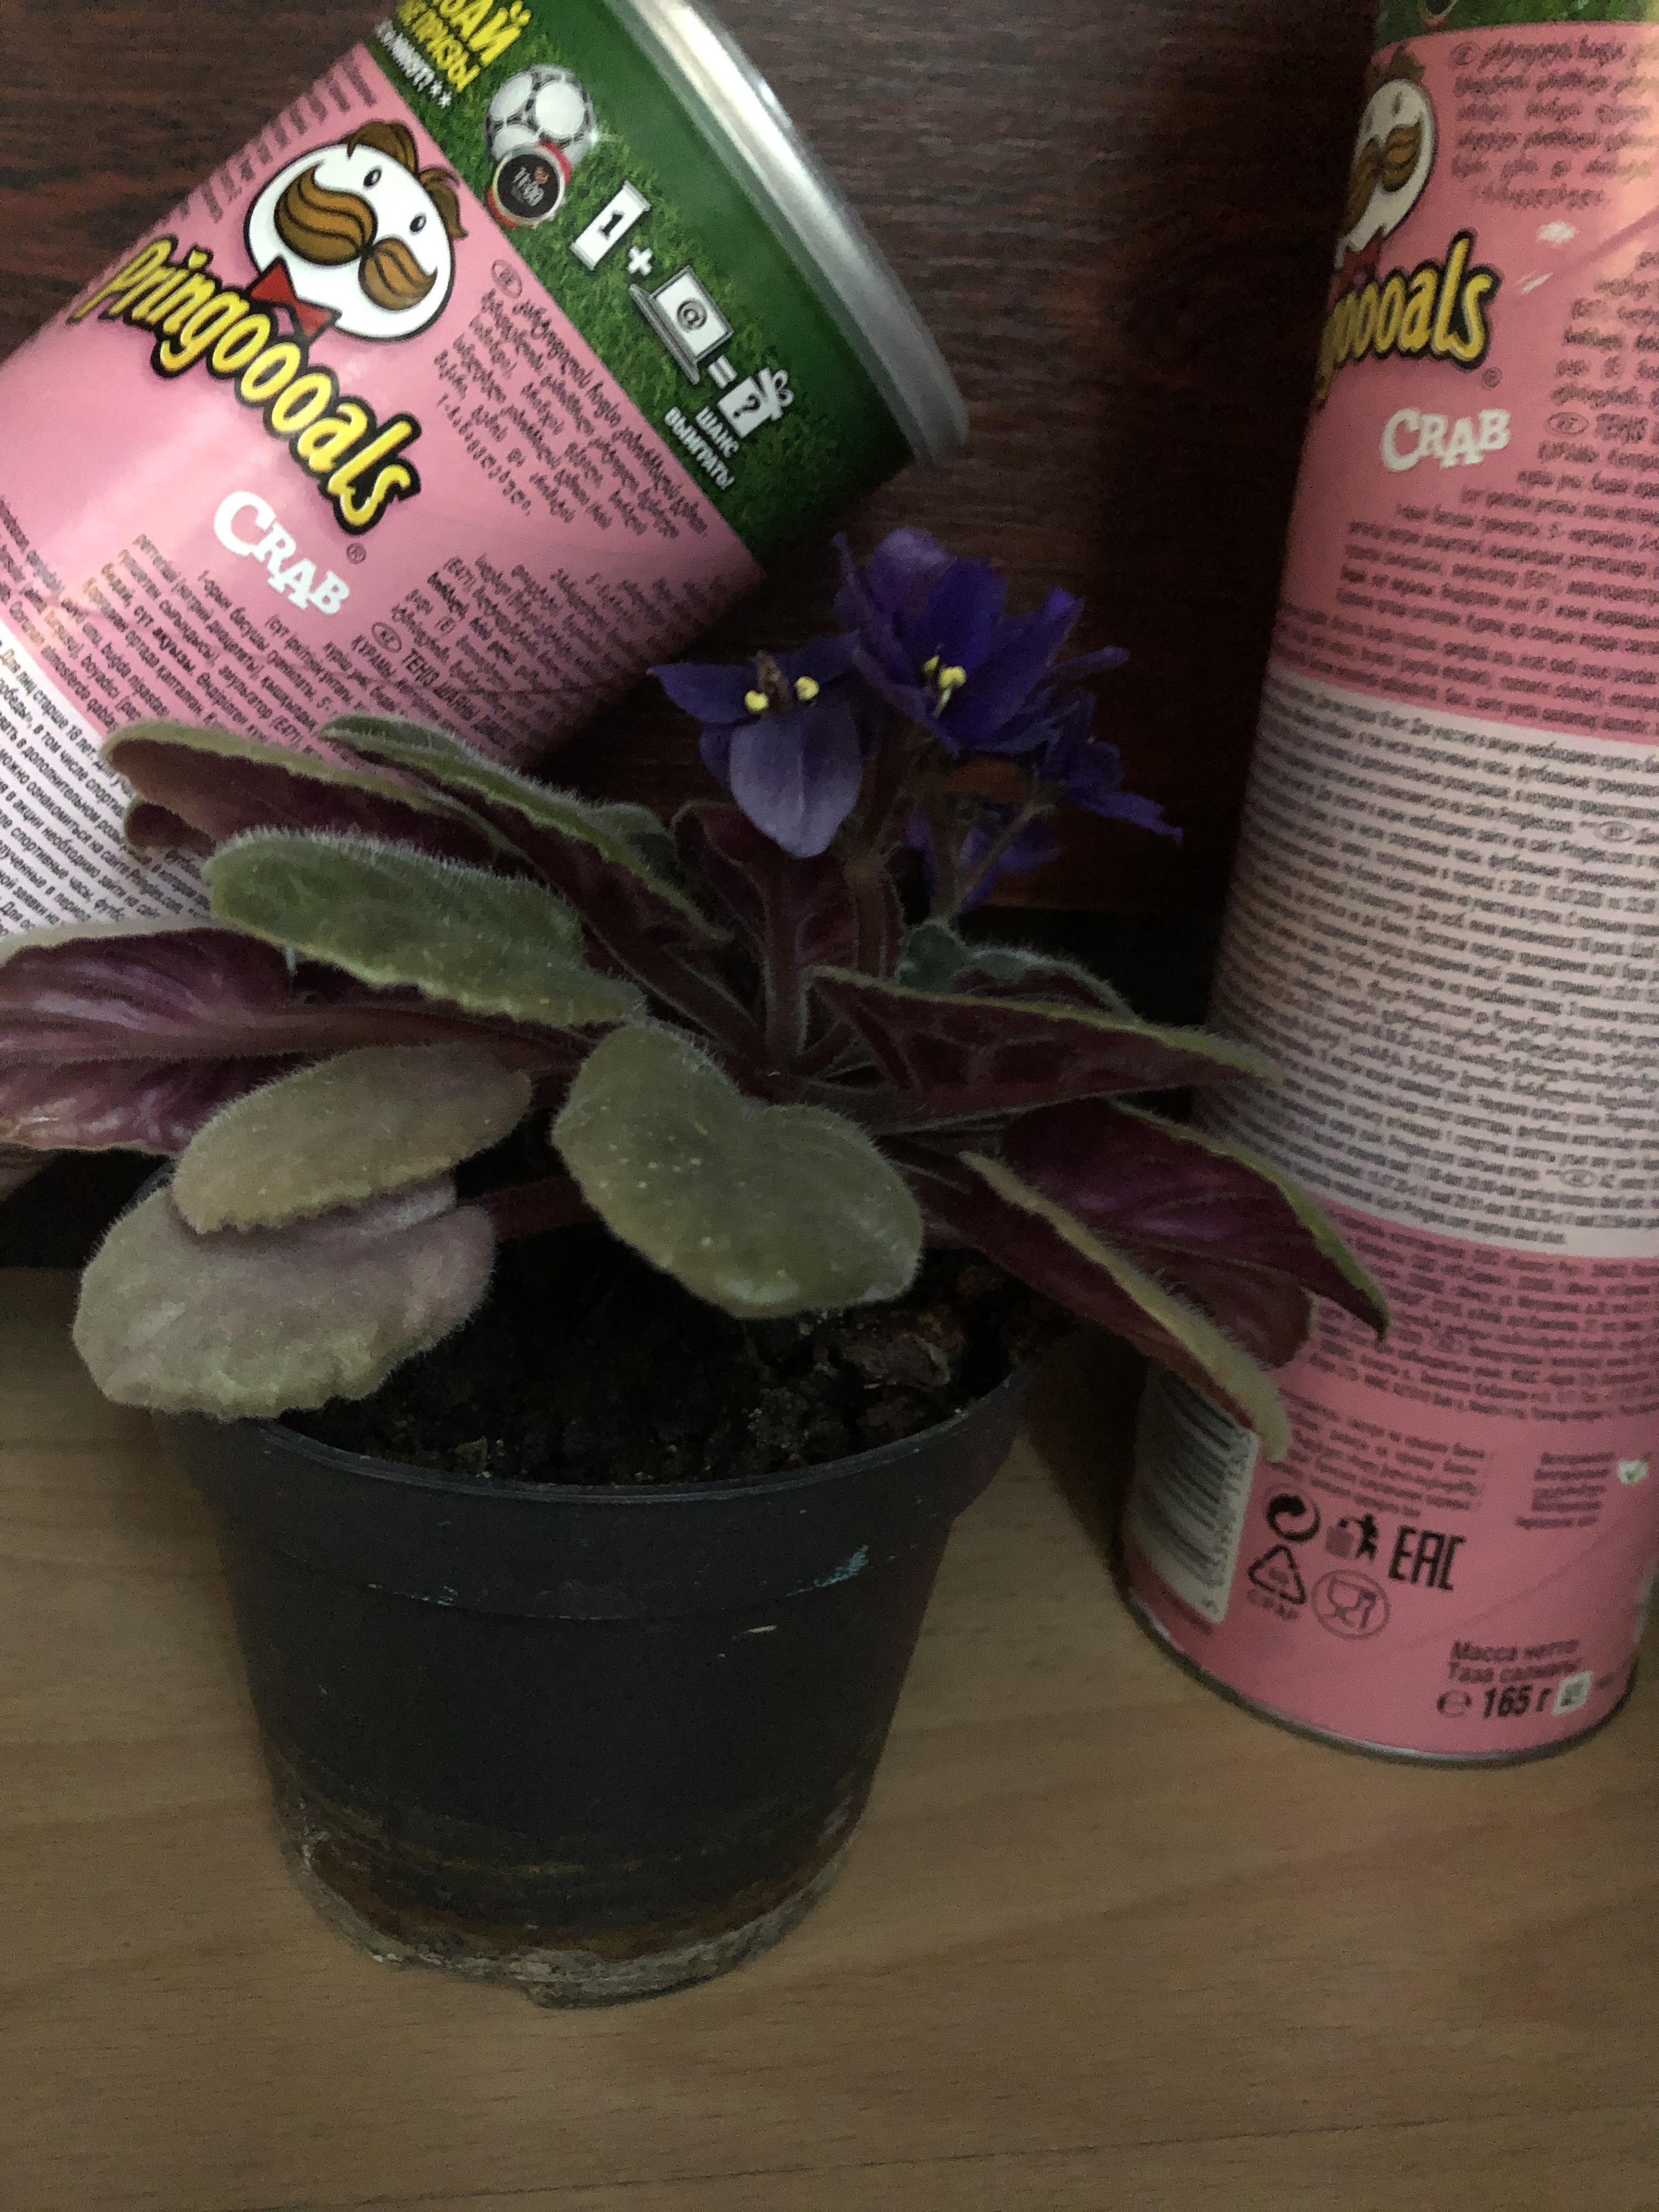ignore: (42, 564, 1401, 1505)
